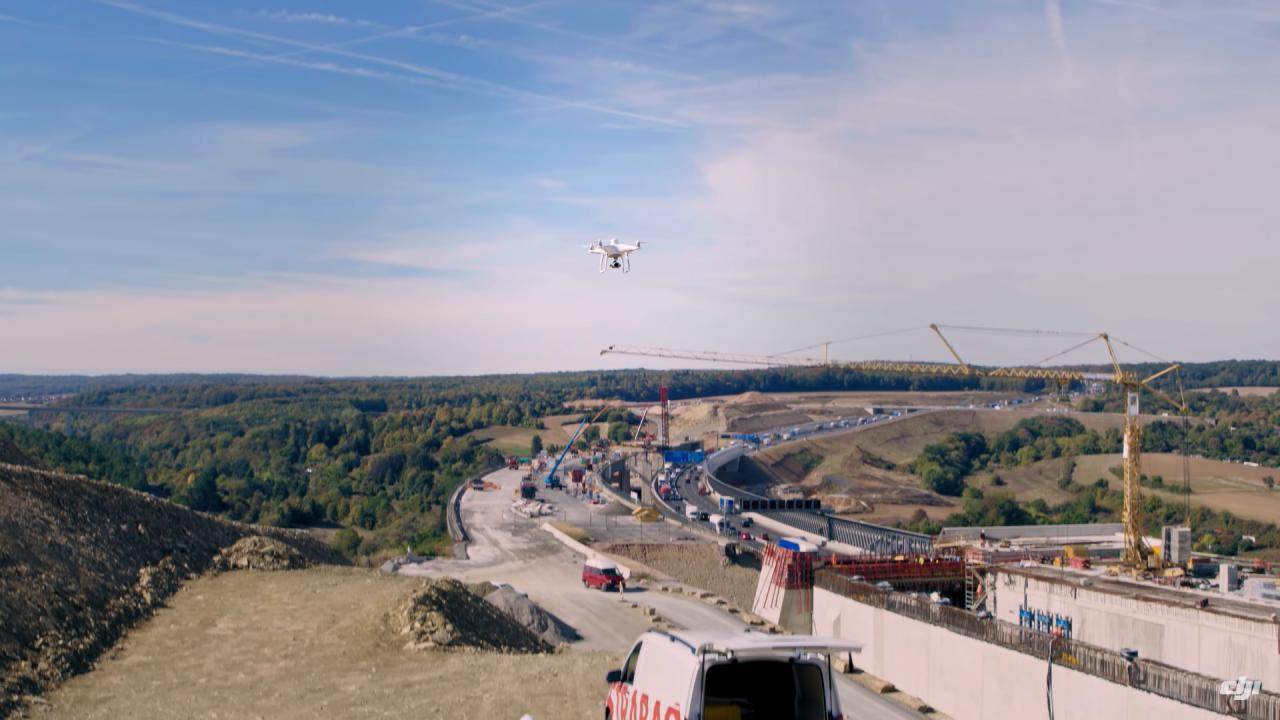Drone: (572, 227, 658, 281)
